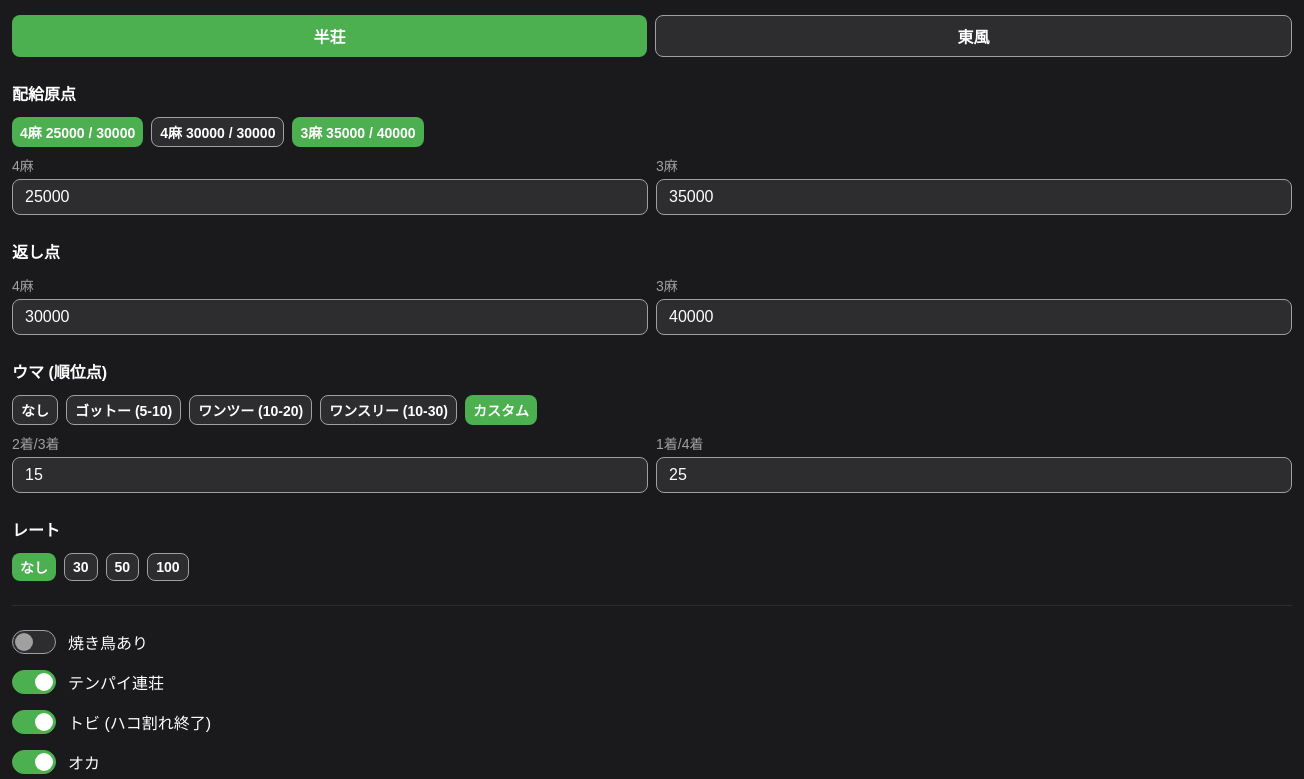
Test: CompetitionRuleSettings › switches from custom uma inputs to the none preset
What coordinates should you click on to do the following:
click the button "なし" below "ウマ (順位点)"
I would click on:
 (35, 410)
Its box is [12,395,58,425].
(page scrolled)
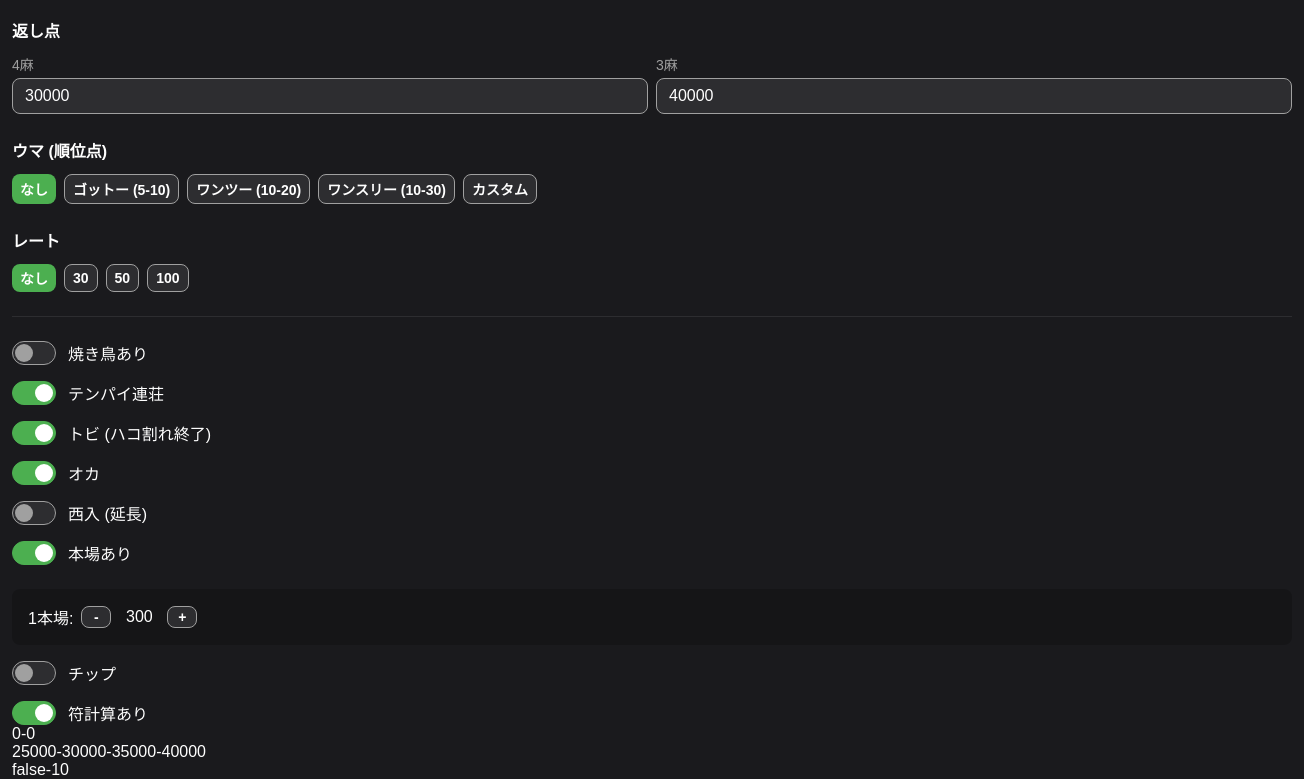
Expected: the text with test id "uma-value" reads "0-0", [12,725,35,742]
